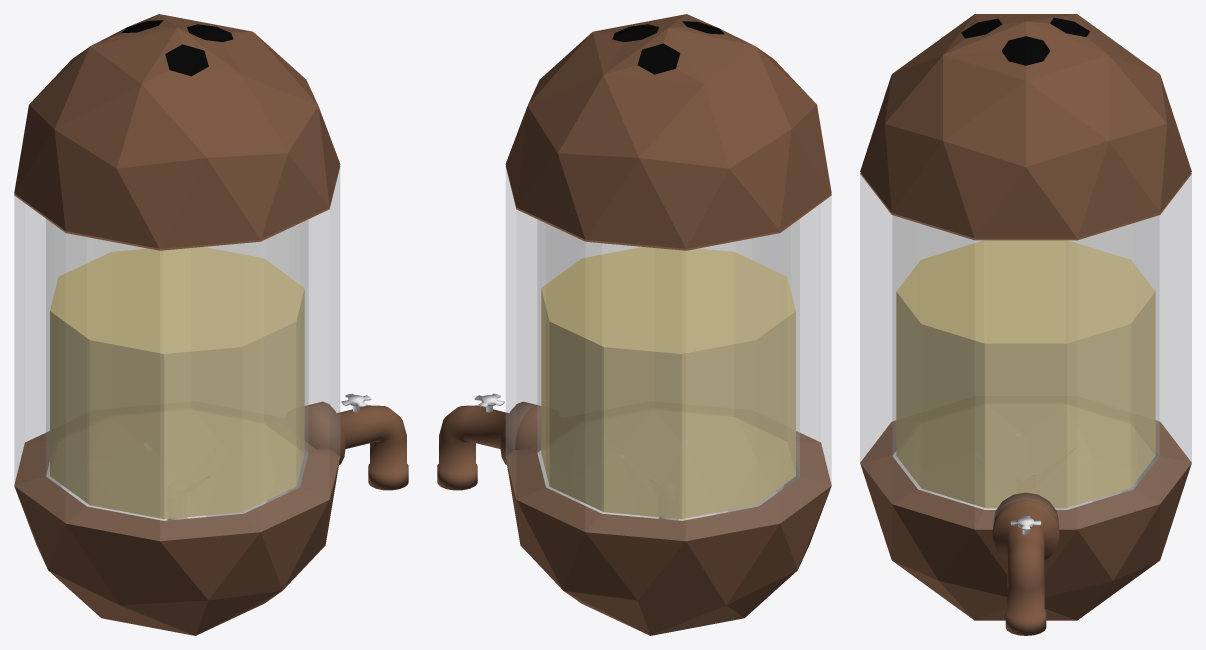
Rendered from Blender.glb.
3 views of the same model, side by side, from view 1: azimuth 30°, elevation 25°; view 2: azimuth 150°, elevation 25°; view 3: azimuth 270°, elevation 25° (orthographic).
Parts seen in each view (by area): view 1: Blender.001; view 2: Blender.001; view 3: Blender.001.
Part boxes in pixels (box(x1,y1,x2,y2)): Blender.001: box(14, 14, 408, 635); Blender.001: box(437, 14, 831, 635); Blender.001: box(860, 14, 1191, 635).
Bounding box in the file's own units: 2.54 × 3.79 × 2.
